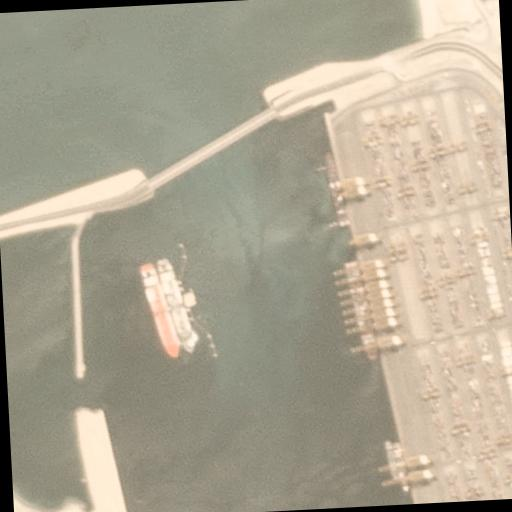ship: (138, 262, 180, 360), (341, 260, 379, 364), (154, 260, 196, 354), (322, 152, 350, 228), (392, 440, 409, 494), (380, 438, 398, 483)
